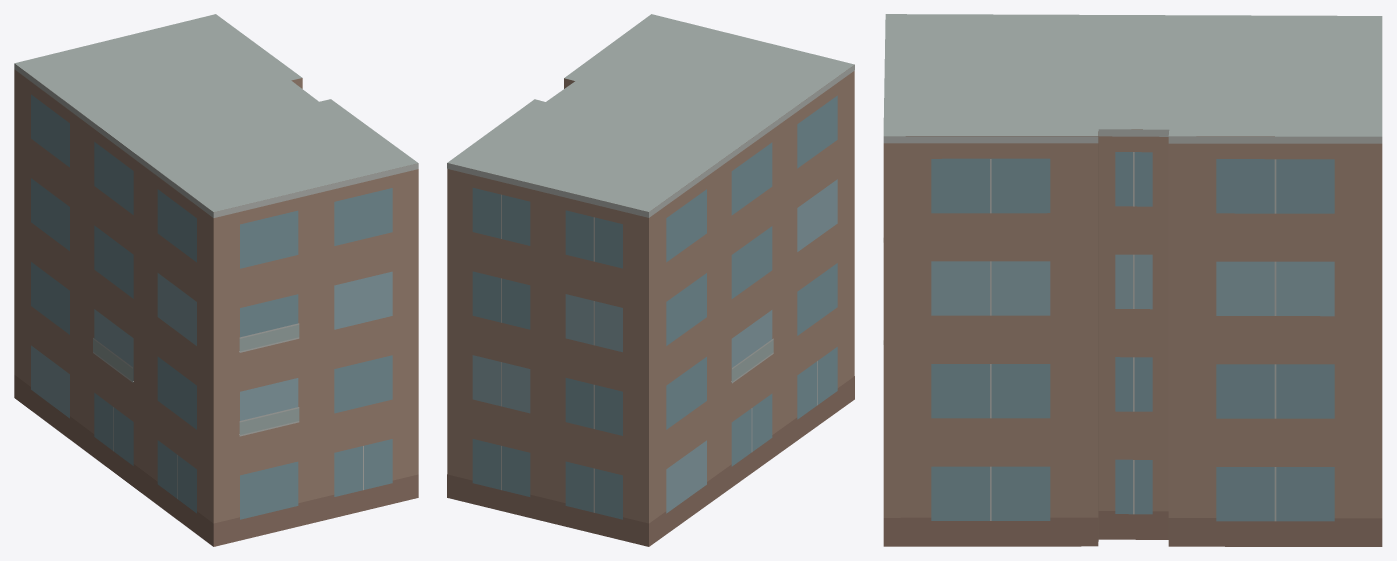
File: survey-upis-32654755.glb
3 views of the same model, side by side, from view 1: azimuth 30°, elevation 25°; view 2: azimuth 150°, elevation 25°; view 3: azimuth 270°, elevation 25° (orthographic). The views are drawn at different scales.
Visible parts, largest first — view 1: survey-upis-32654755.tmp; view 2: survey-upis-32654755.tmp; view 3: survey-upis-32654755.tmp.
Boxes of the visible parts, bbox=[...] form: survey-upis-32654755.tmp: bbox=[14, 14, 418, 546]; survey-upis-32654755.tmp: bbox=[447, 14, 854, 546]; survey-upis-32654755.tmp: bbox=[883, 14, 1382, 546].
Size of the model in its own units: 8.85 by 13.8 by 15.22.
